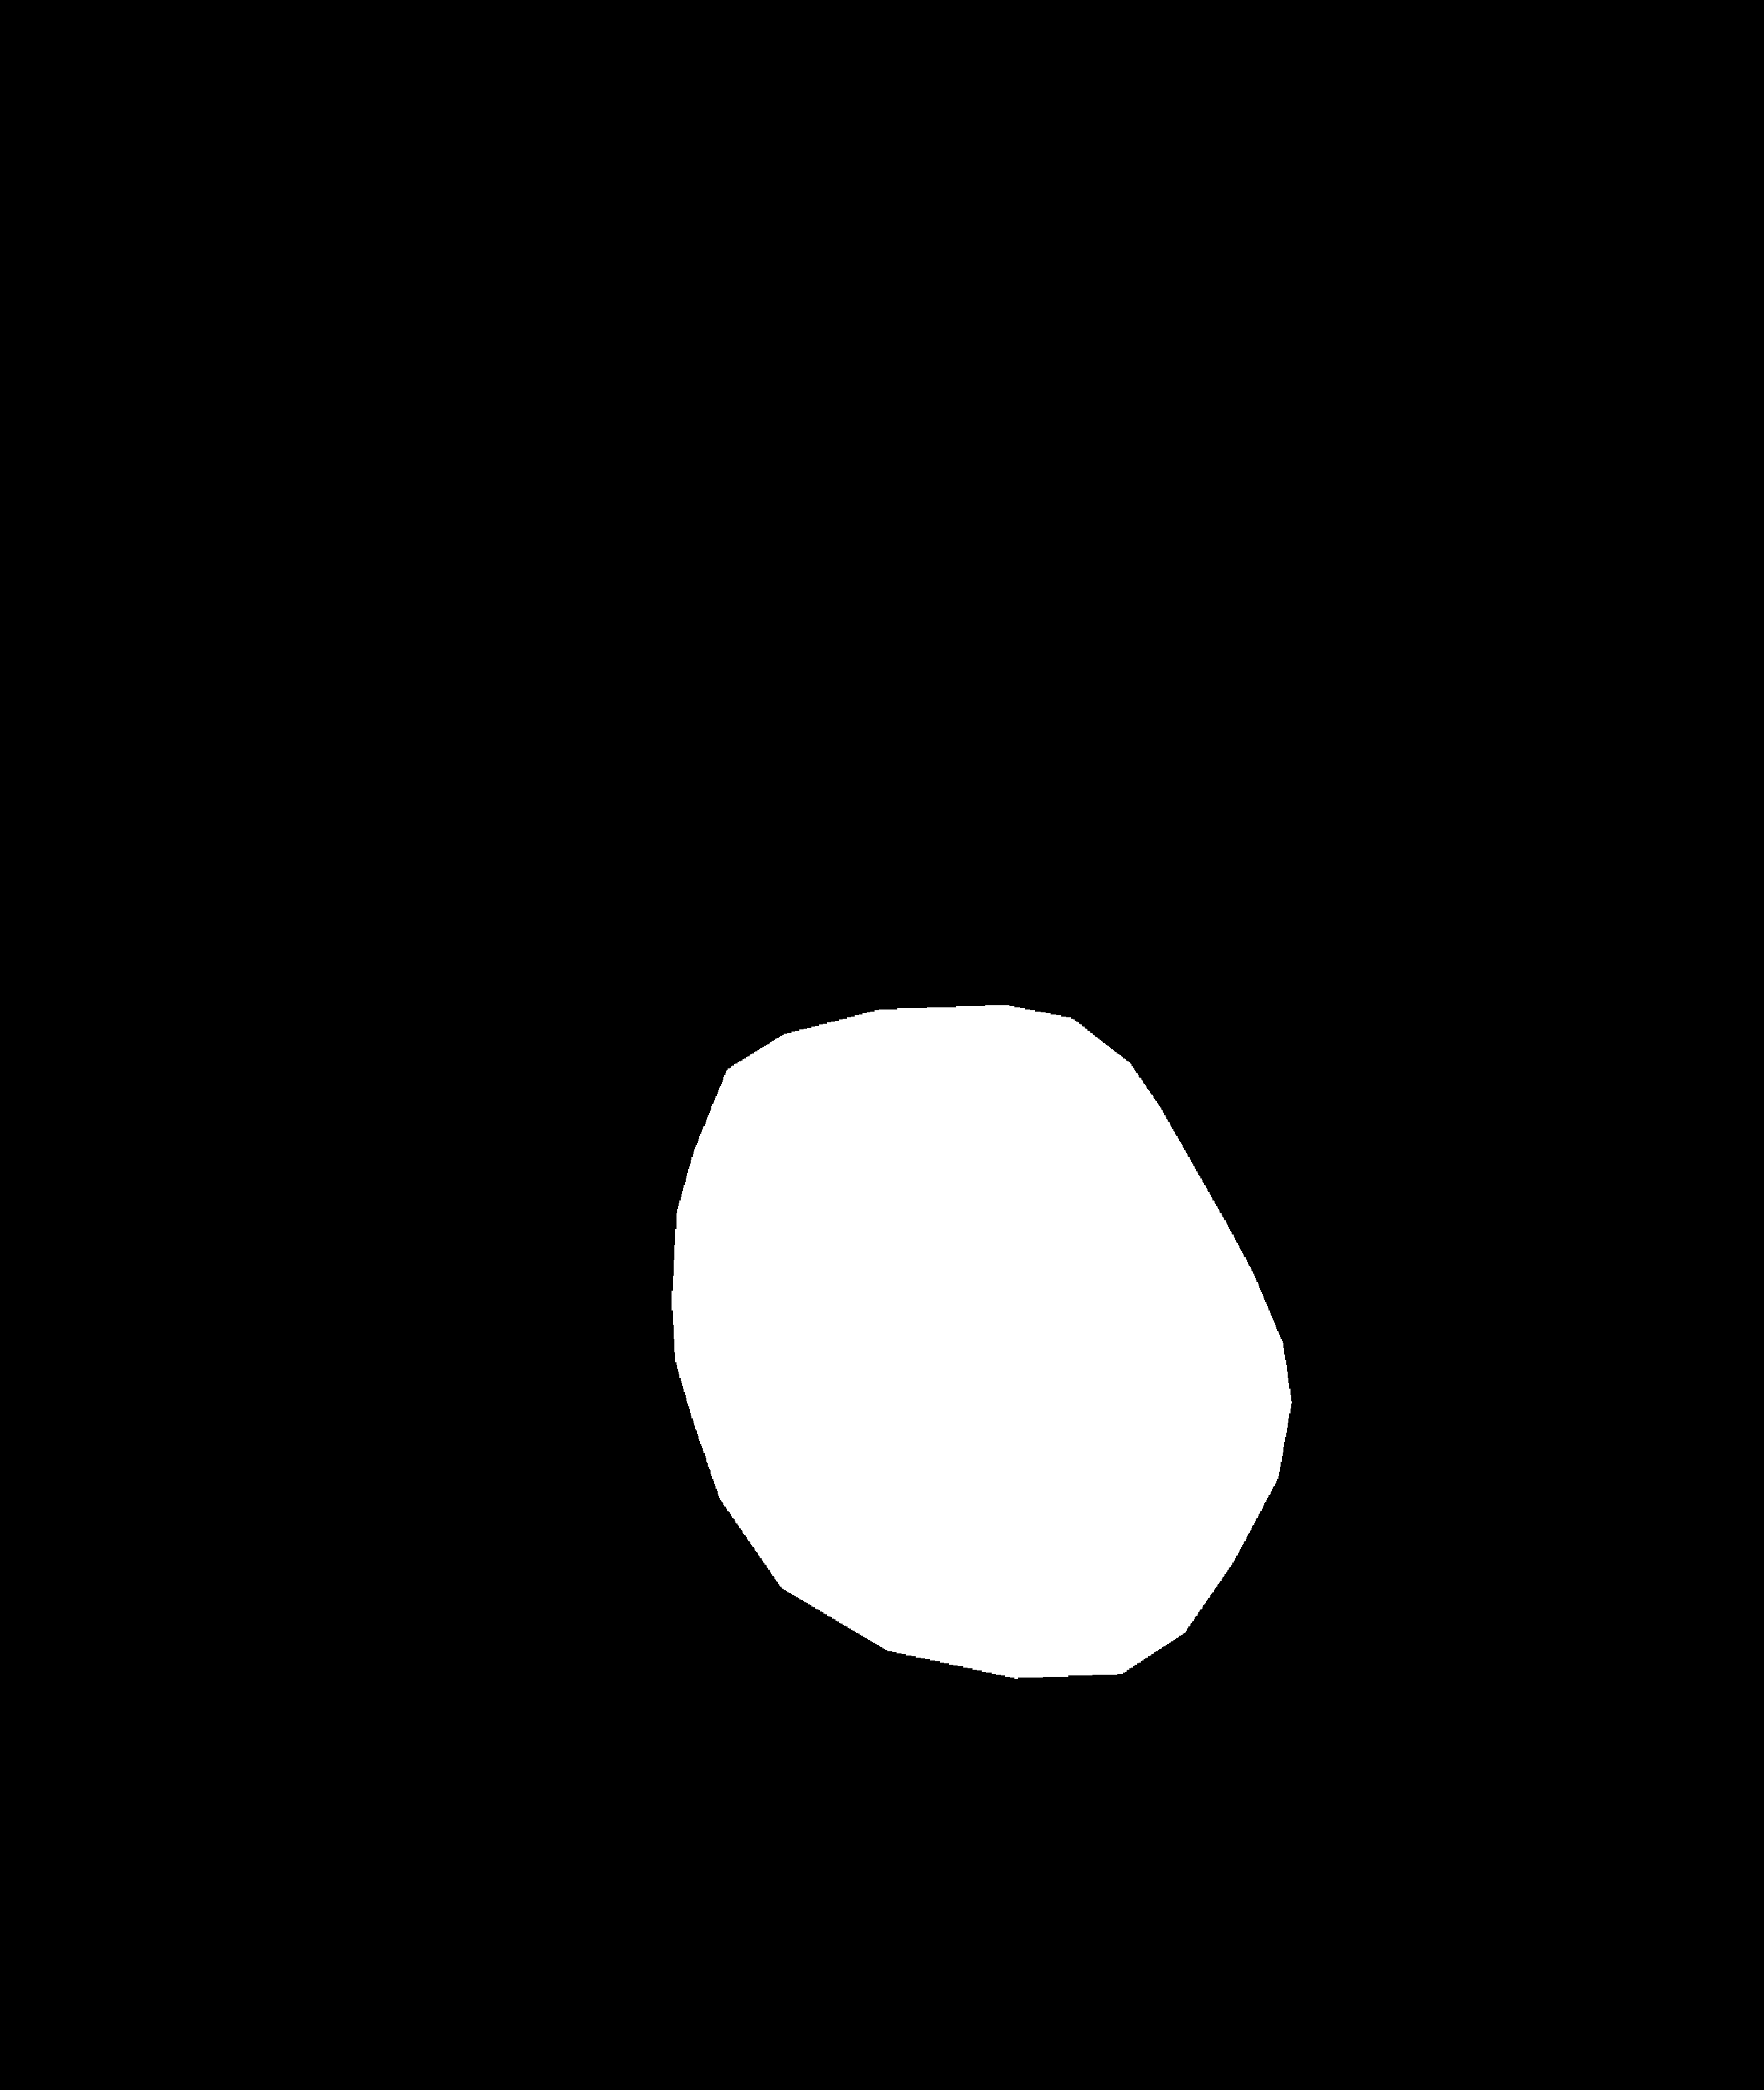heart: (672, 1078, 1286, 1579)
left_lung: (198, 187, 828, 1925)
right_lung: (1017, 170, 1585, 1903)
